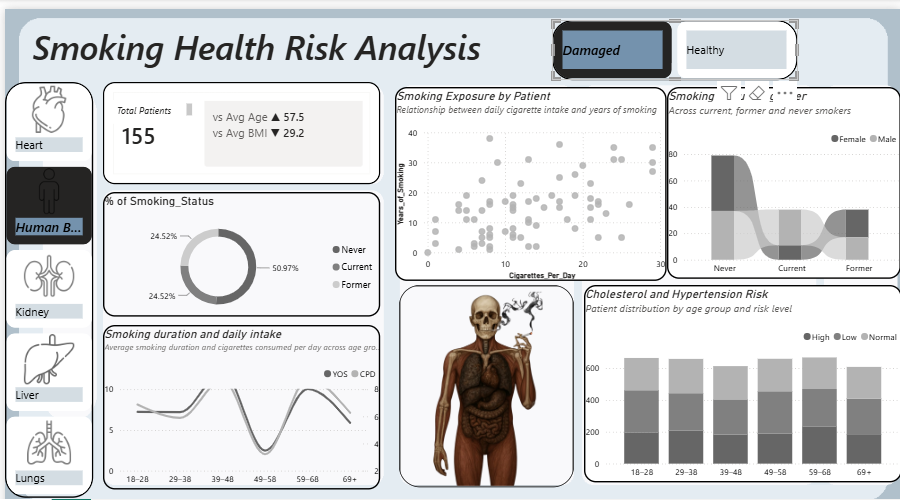

What the dashboard file says about the page in this screenshot:
{"tool":"powerbi","page":{"name":"Page 1","canvas":[1280,720],"ordinal":0},"visuals":[{"type":"cardVisual","fields":{"Data":["CountNonNull(health_dataset.Patient_ID)"]},"box":[139.4,104.1,396.4,146.1],"z":0},{"type":"textbox","box":[154.5,129.3,117.7,33.6],"z":1000},{"type":"advancedSlicerVisual","fields":{"Values":["condition.Organ_Condition"]},"box":[781.1,15.1,351.1,85.7],"z":2000},{"type":"advancedSlicerVisual","fields":{"Values":["Organs.Organ"]},"box":[0,104.3,126.1,593.7],"z":3000},{"type":"image","box":[562.7,394.8,250.3,288.9],"z":4000},{"type":"donutChart","title":"% of Smoking_Status","fields":{"Category":["health_dataset.Smoking_Status"],"Y":["CountNonNull(health_dataset.Smoking_Status)"]},"box":[139.4,262,396.4,178.1],"z":5000},{"type":"lineChart","title":"Smoking duration and daily intake","fields":{"Category":["health_dataset.Age Group"],"Y":["Avg(health_dataset.Years_of_Smoking)"],"Y2":["Avg(health_dataset.Cigarettes_Per_Day)"]},"box":[139.4,451.9,396.4,235.2],"z":6000},{"type":"ribbonChart","title":"Smoking Status by gender","fields":{"Category":["health_dataset.Smoking_Status"],"Series":["health_dataset.Gender"],"Y":["CountNonNull(health_dataset.Patient_ID)"]},"box":[945.7,110.9,334.3,273.8],"z":7000},{"type":"columnChart","title":"Cholesterol and Hypertension Risk","fields":{"Category":["health_dataset.Age Group"],"Y":["Avg(health_dataset.Cholesterol_Level)"],"Series":["health_dataset.BP_Risk"]},"box":[826.5,394.8,453.5,282.2],"z":8000},{"type":"textbox","box":[33.6,15.1,655.1,77.3],"z":9000},{"type":"scatterChart","title":"Smoking Exposure by Patient","fields":{"X":["health_dataset.Cigarettes_Per_Day"],"Y":["health_dataset.Years_of_Smoking"]},"box":[557.7,110.9,388,277.2],"z":10000}]}

Visuals, with their boxes in screenshot pixels (x1, y1, x2, y2), scaled from the page's 1280x720 canvas onto the 900x500 screenshot:
cardVisual - CountNonNull(health_dataset.Patient_ID): (98, 72, 377, 174)
textbox: (109, 90, 191, 113)
advancedSlicerVisual - condition.Organ_Condition: (549, 10, 796, 70)
advancedSlicerVisual - Organs.Organ: (0, 72, 89, 485)
image: (396, 274, 572, 475)
"% of Smoking_Status" donutChart: (98, 182, 377, 306)
"Smoking duration and daily intake" lineChart: (98, 314, 377, 477)
"Smoking Status by gender" ribbonChart: (665, 77, 899, 267)
"Cholesterol and Hypertension Risk" columnChart: (581, 274, 899, 470)
textbox: (24, 10, 484, 64)
"Smoking Exposure by Patient" scatterChart: (392, 77, 665, 270)
